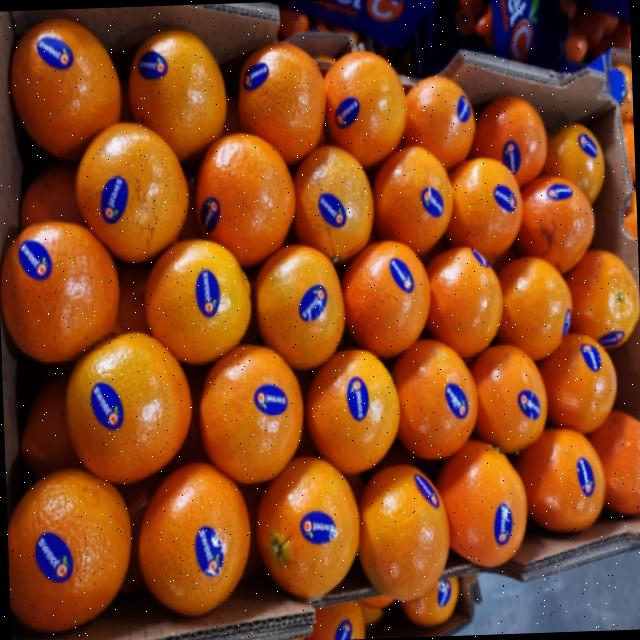orange: (5, 470, 133, 637), (4, 13, 132, 173), (63, 331, 196, 484), (136, 460, 256, 624), (0, 215, 123, 366), (73, 121, 190, 265), (190, 130, 298, 272), (355, 462, 455, 606), (306, 346, 402, 468), (322, 47, 412, 165), (523, 424, 608, 534), (514, 168, 598, 275)
